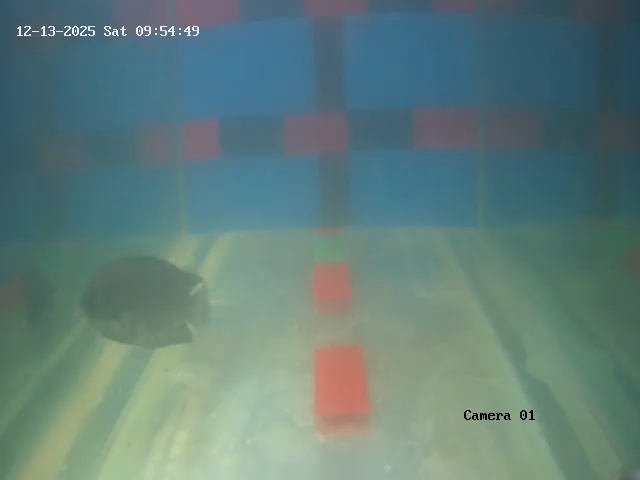fish: (70, 250, 215, 349)
